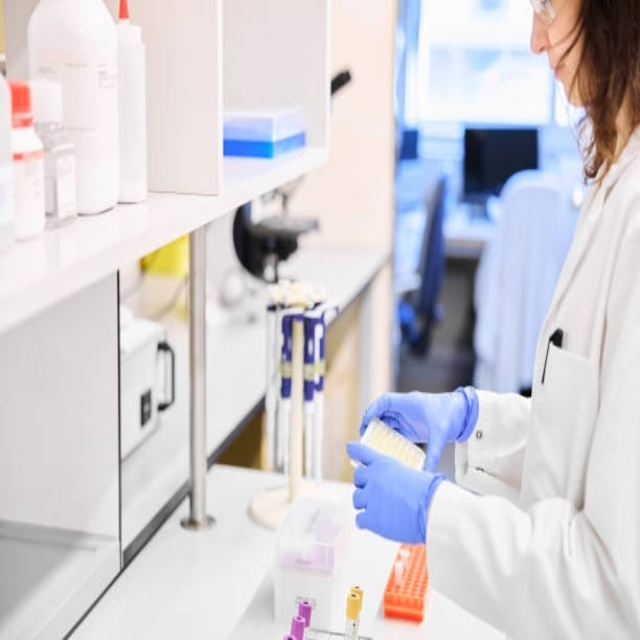Gafas: (527, 3, 567, 31)
Guantes: (341, 433, 435, 546), (359, 386, 480, 470)
Sin_mascara: (545, 47, 584, 102)
